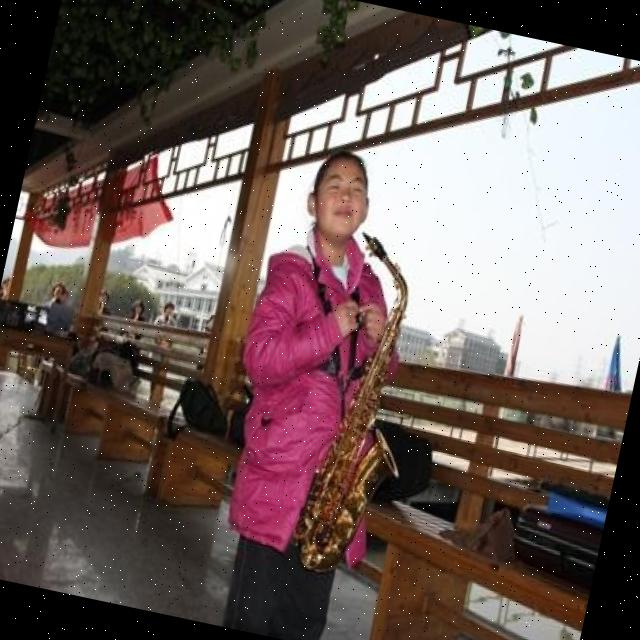saxophone: (287, 226, 450, 595)
